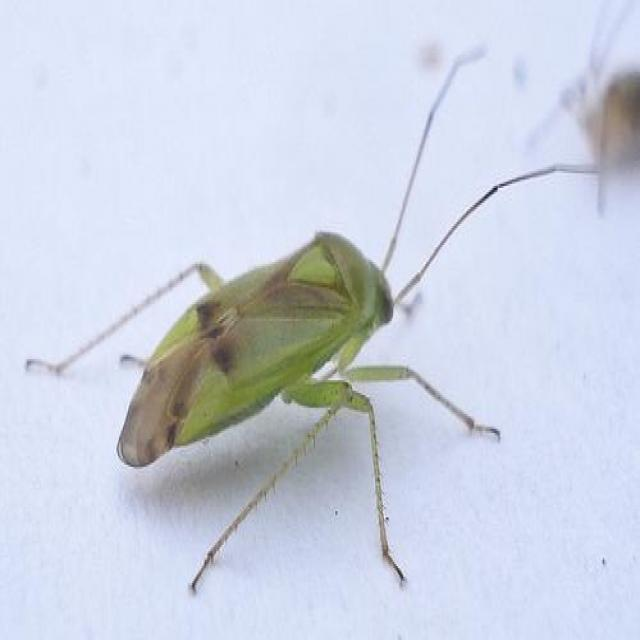Miridae-Adult-: (41, 36, 524, 579)
